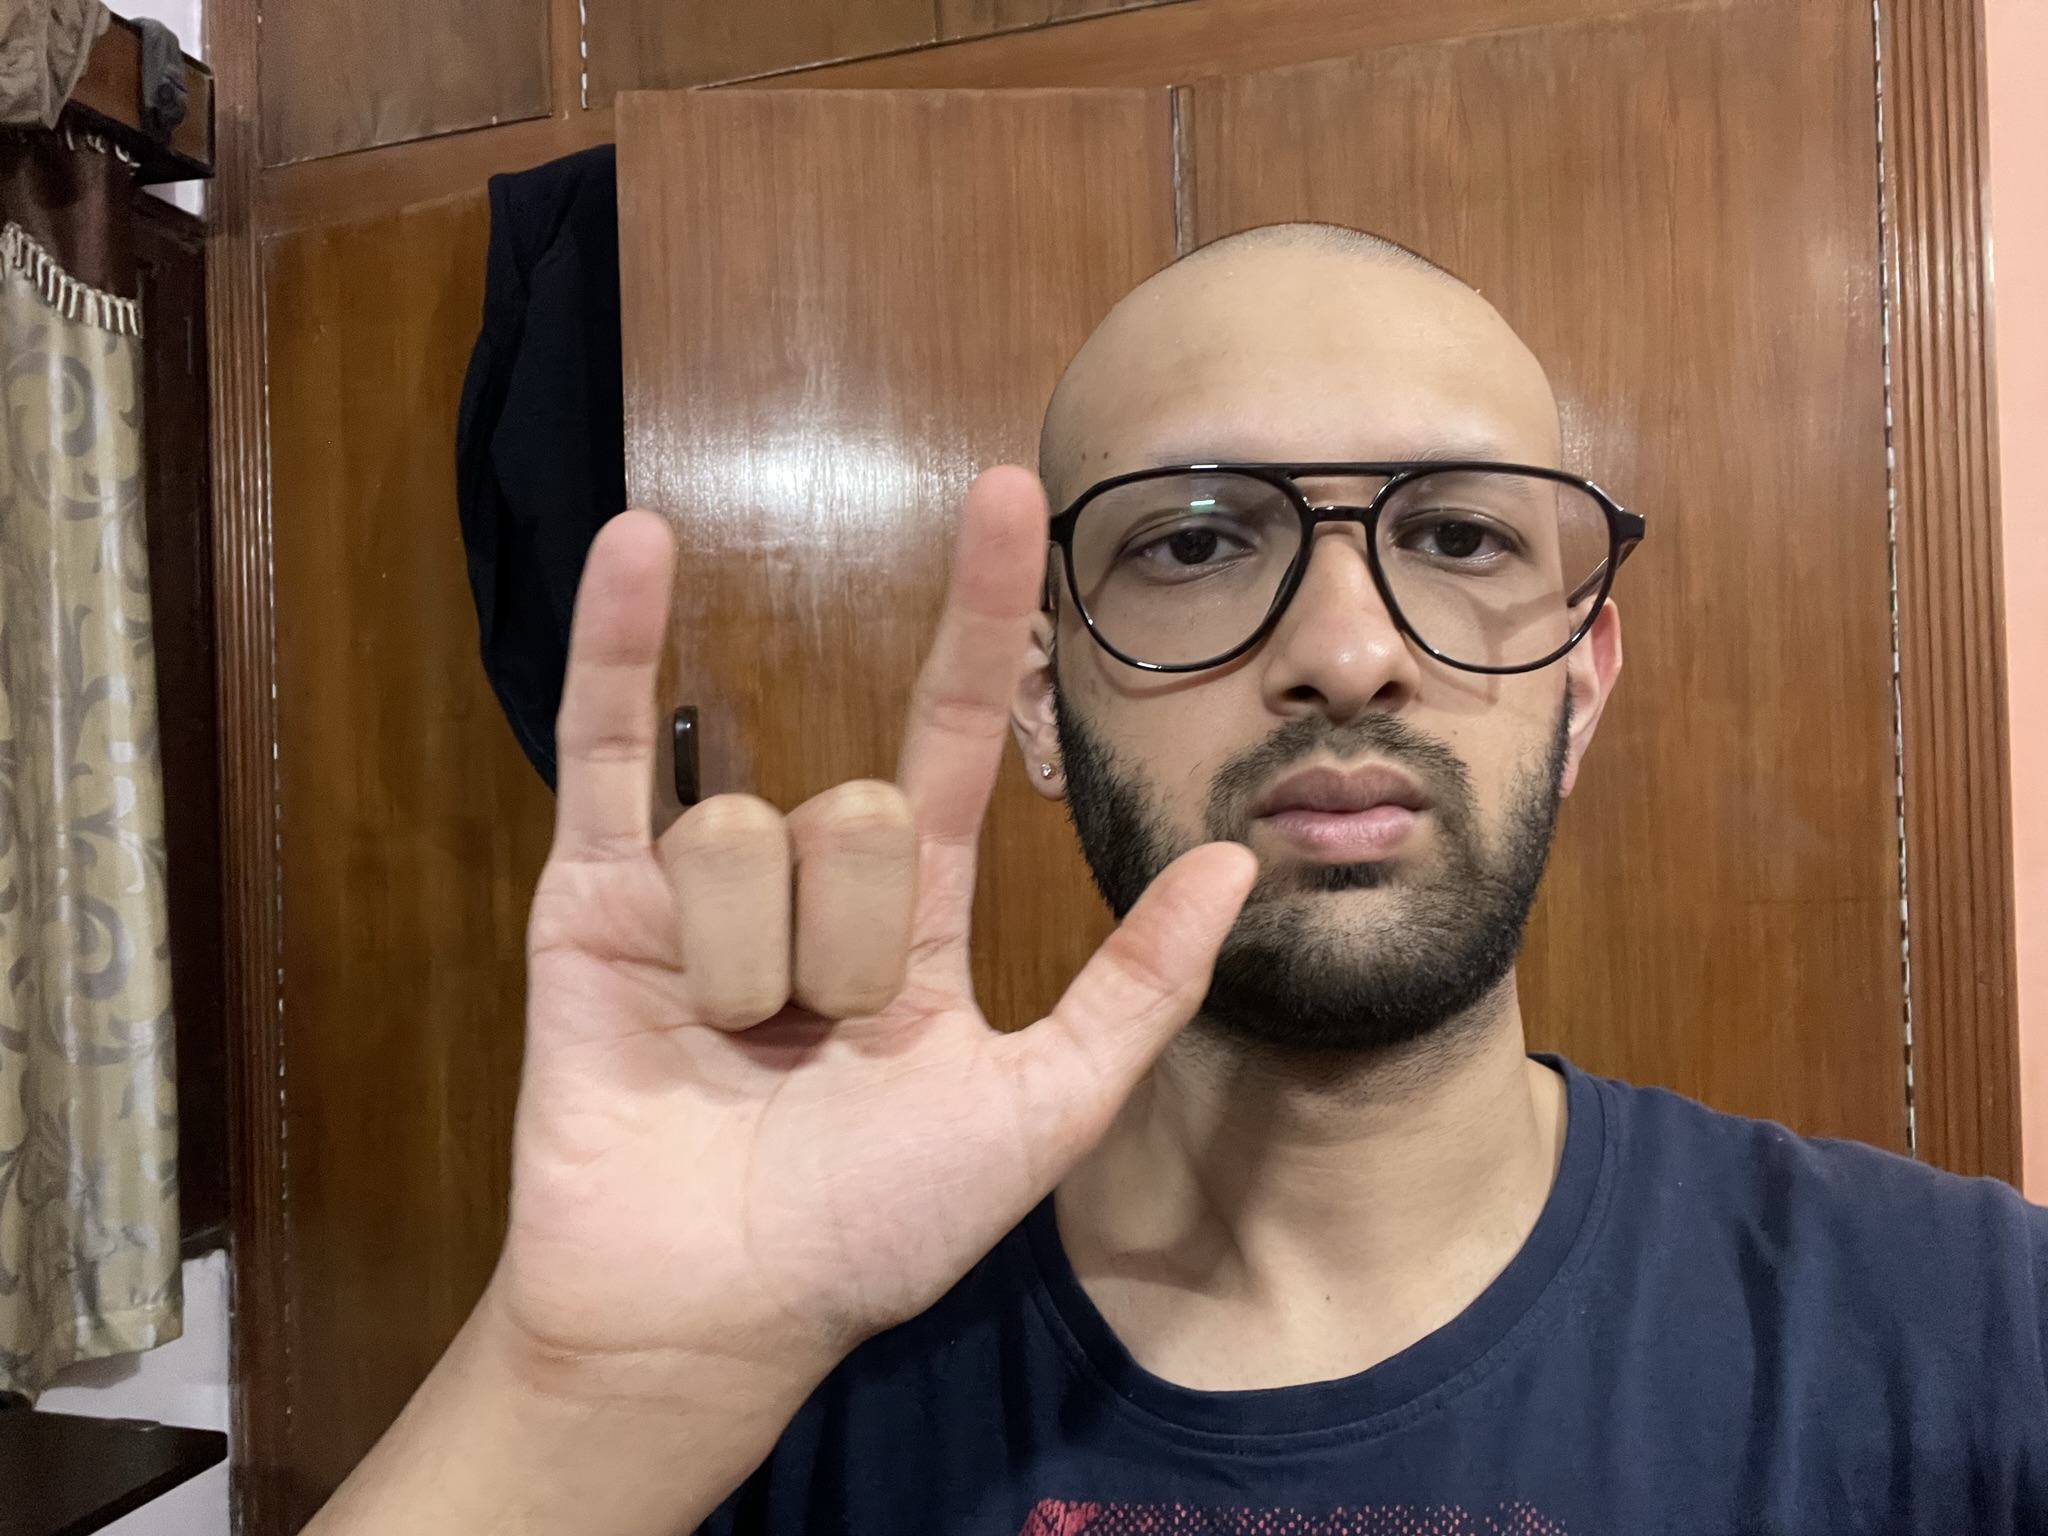I Love You: (490, 463, 1264, 1384)
